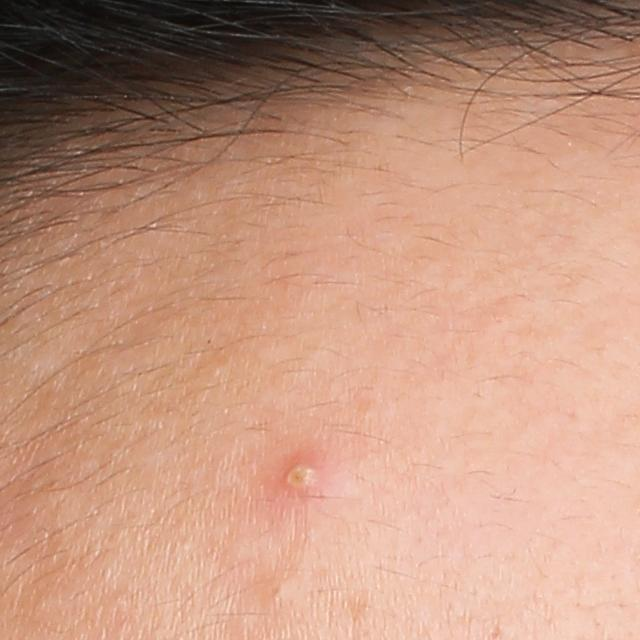pustule: (280, 457, 322, 493)
